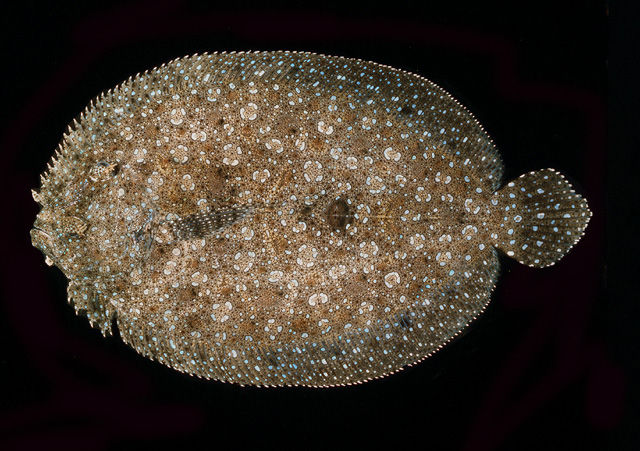fish: (33, 50, 595, 389)
